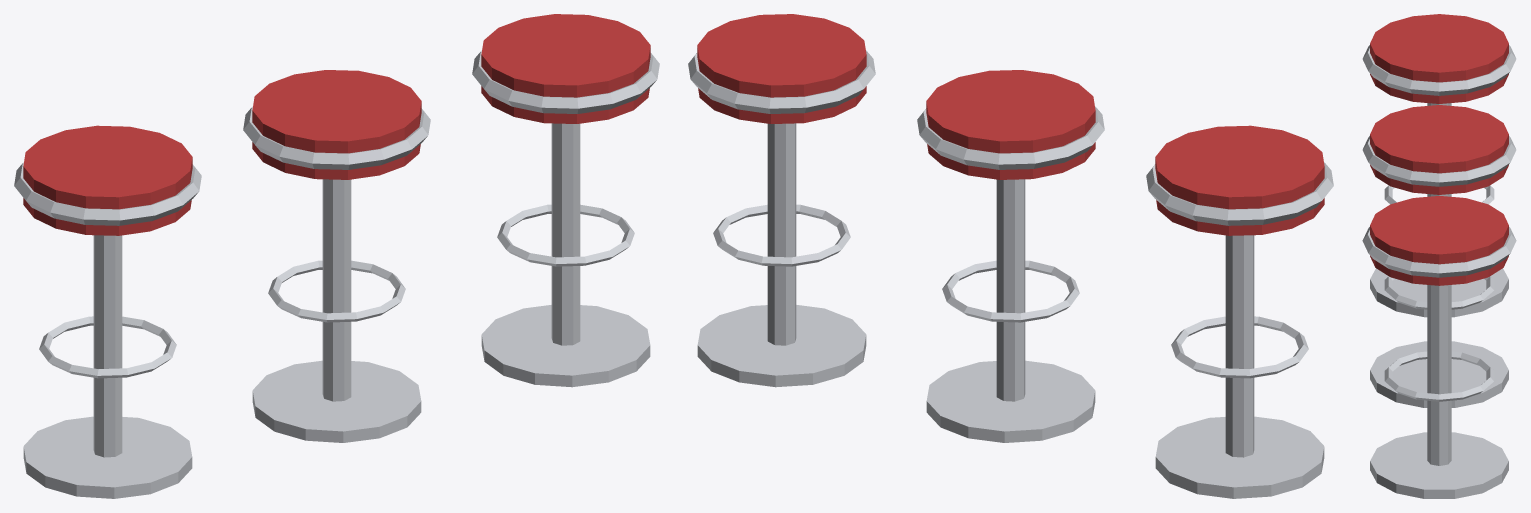
The model's file is bar_stools.glb.
3 views of the same model, side by side, from view 1: azimuth 30°, elevation 25°; view 2: azimuth 150°, elevation 25°; view 3: azimuth 270°, elevation 25° (orthographic). The views are drawn at different scales.
Parts seen in each view (by area): view 1: bar_stools; view 2: bar_stools; view 3: bar_stools.
Part boxes in pixels (box(x1,y1,x2,y2)): bar_stools: box(14, 14, 659, 498); bar_stools: box(688, 14, 1333, 498); bar_stools: box(1362, 14, 1516, 498).
Size of the model in its own units: 1.68 by 0.78 by 0.444.
